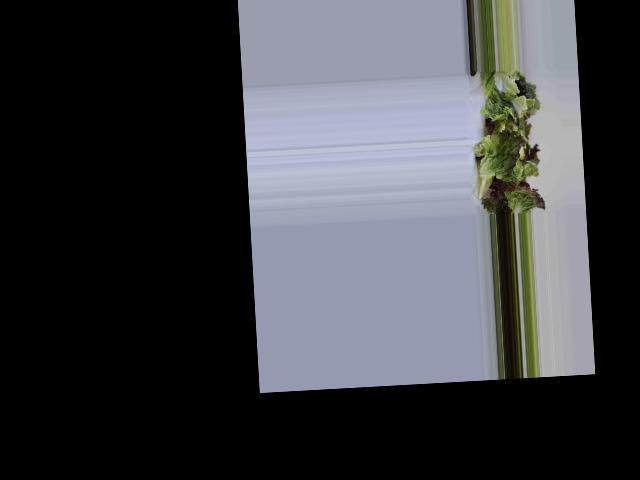lettuce: (452, 103, 562, 210)
